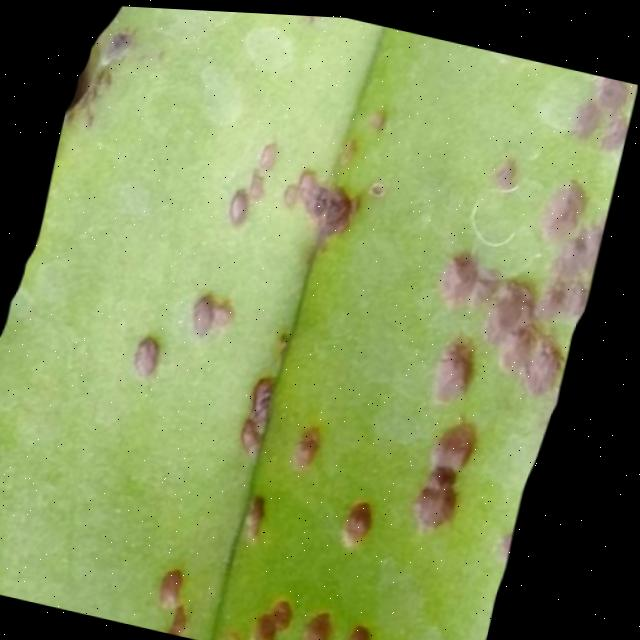mite: (249, 585, 387, 640), (304, 601, 343, 640), (409, 611, 454, 640), (348, 614, 381, 640), (367, 173, 389, 195)
spots: (0, 3, 638, 640)
sunburn: (407, 403, 490, 537)
